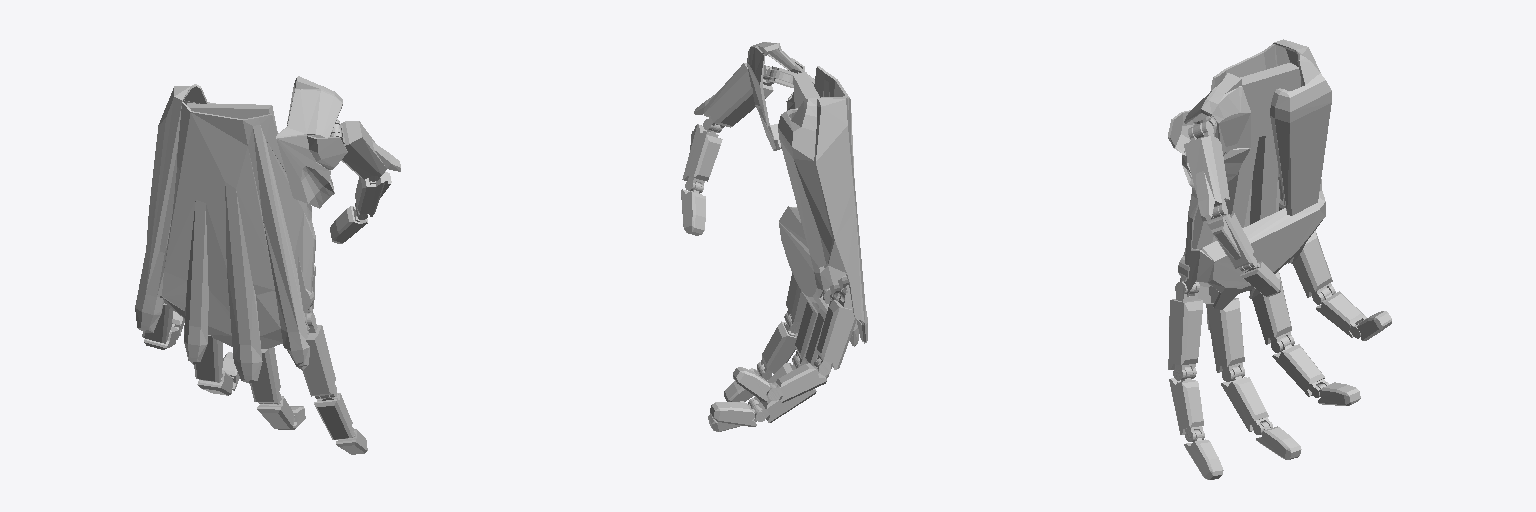
The model's file is rightHand.obj.
The picture shows the model from 3 angles: view 1: azimuth 30°, elevation 25°; view 2: azimuth 150°, elevation 25°; view 3: azimuth 270°, elevation 25°; orthographic projection.
Visible parts, largest first — view 1: rightHand1, rightHand1 rightThumb1, rightHand1 rightForefinger1, rightHand1 rightForefinger1 rightForefinger2, rightHand1 rightMedius1, rightHand1 rightThumb1 rightThumb2, rightHand1 rightRingfinger1, rightHand1 rightThumb1 rightThumb2 rightThumb3, rightHand1 rightMedius1 rightMedius2, rightHand1 rightLittlefinger1; view 2: rightHand1, rightHand1 rightThumb1, rightHand1 rightLittlefinger1, rightHand1 rightThumb1 rightThumb2, rightHand1 rightLittlefinger1 rightLittlefinger2, rightHand1 rightForefinger1 rightForefinger2, rightHand1 rightThumb1 rightThumb2 rightThumb3, rightHand1 rightRingfinger1 rightRingfinger2 rightRingfinger3, rightHand1 rightMedius1, rightHand1 rightRingfinger1 rightRingfinger2, rightHand1 rightForefinger1, rightHand1 rightLittlefinger1 rightLittlefinger2 rightLittlefing (+1 smaller); view 3: rightHand1, rightHand1 rightThumb1, rightHand1 rightForefinger1, rightHand1 rightMedius1, rightHand1 rightRingfinger1, rightHand1 rightForefinger1 rightForefinger2, rightHand1 rightLittlefinger1, rightHand1 rightThumb1 rightThumb2, rightHand1 rightMedius1 rightMedius2, rightHand1 rightRingfinger1 rightRingfinger2, rightHand1 rightLittlefinger1 rightLittlefinger2, rightHand1 rightForefinger1 rightForefinger2 rightForefinger3 (+4 smaller).
Boxes of the visible parts, x1=… form: rightHand1: x1=135, y1=76, x2=347, y2=383; rightHand1 rightThumb1: x1=330, y1=119, x2=400, y2=181; rightHand1 rightForefinger1: x1=302, y1=313, x2=336, y2=398; rightHand1 rightForefinger1 rightForefinger2: x1=314, y1=393, x2=354, y2=439; rightHand1 rightMedius1: x1=250, y1=347, x2=280, y2=404; rightHand1 rightThumb1 rightThumb2: x1=355, y1=171, x2=391, y2=219; rightHand1 rightRingfinger1: x1=194, y1=335, x2=222, y2=382; rightHand1 rightThumb1 rightThumb2 rightThumb3: x1=330, y1=206, x2=367, y2=243; rightHand1 rightMedius1 rightMedius2: x1=257, y1=396, x2=294, y2=428; rightHand1 rightLittlefinger1: x1=142, y1=303, x2=173, y2=343; rightHand1: x1=747, y1=42, x2=867, y2=346; rightHand1 rightThumb1: x1=694, y1=63, x2=773, y2=132; rightHand1 rightLittlefinger1: x1=814, y1=288, x2=856, y2=375; rightHand1 rightThumb1 rightThumb2: x1=682, y1=124, x2=722, y2=193; rightHand1 rightLittlefinger1 rightLittlefinger2: x1=767, y1=359, x2=826, y2=402; rightHand1 rightForefinger1 rightForefinger2: x1=757, y1=315, x2=797, y2=380; rightHand1 rightThumb1 rightThumb2 rightThumb3: x1=681, y1=182, x2=705, y2=235; rightHand1 rightRingfinger1 rightRingfinger2 rightRingfinger3: x1=710, y1=402, x2=762, y2=426; rightHand1 rightMedius1: x1=792, y1=288, x2=830, y2=368; rightHand1 rightRingfinger1 rightRingfinger2: x1=752, y1=389, x2=816, y2=422; rightHand1 rightForefinger1: x1=784, y1=273, x2=807, y2=333; rightHand1 rightLittlefinger1 rightLittlefinger2 rightLittlefing: x1=733, y1=367, x2=775, y2=401; rightHand1: x1=1168, y1=39, x2=1331, y2=329; rightHand1 rightThumb1: x1=1184, y1=121, x2=1229, y2=220; rightHand1 rightForefinger1: x1=1168, y1=281, x2=1202, y2=380; rightHand1 rightMedius1: x1=1206, y1=286, x2=1244, y2=381; rightHand1 rightRingfinger1: x1=1249, y1=271, x2=1294, y2=352; rightHand1 rightForefinger1 rightForefinger2: x1=1169, y1=367, x2=1204, y2=441; rightHand1 rightLittlefinger1: x1=1293, y1=230, x2=1335, y2=304; rightHand1 rightThumb1 rightThumb2: x1=1206, y1=206, x2=1257, y2=271; rightHand1 rightMedius1 rightMedius2: x1=1221, y1=366, x2=1272, y2=434; rightHand1 rightRingfinger1 rightRingfinger2: x1=1272, y1=336, x2=1329, y2=397; rightHand1 rightLittlefinger1 rightLittlefinger2: x1=1316, y1=287, x2=1366, y2=338; rightHand1 rightForefinger1 rightForefinger2 rightForefinger3: x1=1184, y1=430, x2=1223, y2=479.
Size of the model in its own units: 0.4928 by 0.8239 by 0.4408.